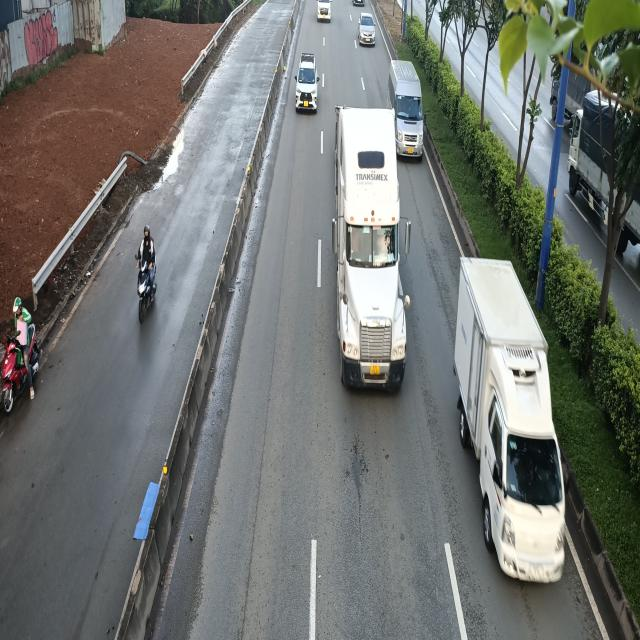car: (293, 53, 319, 113), (358, 13, 375, 47)
container: (338, 102, 415, 388)
truck: (453, 256, 570, 581)
van: (387, 59, 427, 160)
